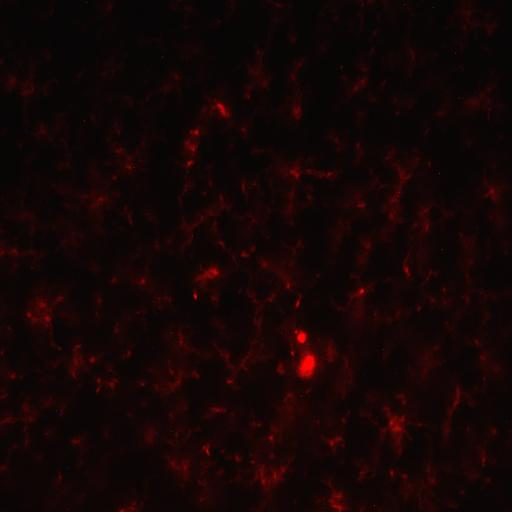microglia: (240, 337, 264, 376), (296, 349, 324, 382), (243, 286, 263, 332), (215, 342, 236, 376), (480, 177, 503, 208), (213, 97, 233, 122), (449, 386, 463, 419), (296, 328, 312, 346), (202, 267, 222, 279), (290, 102, 302, 122), (395, 392, 409, 407), (387, 207, 401, 222), (109, 322, 124, 336), (69, 434, 83, 448), (417, 204, 432, 217), (289, 166, 301, 182), (144, 428, 156, 444), (135, 306, 148, 319), (266, 290, 278, 304), (206, 207, 218, 221), (420, 219, 431, 234), (362, 237, 373, 252), (200, 442, 210, 456), (249, 420, 263, 430), (284, 389, 294, 402), (191, 368, 200, 382), (192, 290, 202, 302), (184, 157, 196, 167), (38, 298, 48, 310), (168, 459, 178, 471), (461, 293, 471, 305), (54, 293, 64, 305), (305, 164, 313, 178), (24, 309, 34, 320), (73, 342, 84, 352), (325, 170, 336, 180), (166, 410, 177, 420), (392, 424, 404, 433), (239, 181, 247, 194), (260, 78, 270, 88), (110, 172, 120, 182), (163, 293, 173, 303), (44, 314, 53, 325), (234, 452, 242, 464), (272, 470, 280, 482), (425, 270, 440, 276), (359, 77, 369, 86), (192, 127, 200, 138), (268, 434, 276, 445), (354, 139, 362, 150), (182, 460, 188, 474), (277, 363, 284, 375), (179, 334, 185, 348), (353, 80, 359, 94), (290, 75, 299, 84), (304, 387, 313, 396), (74, 357, 82, 367), (241, 125, 249, 135), (96, 296, 104, 306), (113, 146, 124, 153), (400, 415, 408, 424), (293, 302, 305, 308), (98, 194, 104, 206), (126, 346, 132, 358), (359, 469, 367, 478), (429, 296, 437, 305), (306, 191, 312, 203), (358, 287, 365, 297), (328, 438, 335, 448), (262, 259, 268, 270), (226, 378, 234, 386), (240, 252, 248, 260), (416, 306, 424, 314), (388, 417, 395, 426), (403, 266, 410, 275), (189, 145, 198, 152), (332, 502, 338, 512), (389, 466, 394, 478), (441, 284, 447, 294), (128, 212, 132, 227), (174, 430, 180, 440), (215, 406, 223, 413), (358, 203, 366, 210), (218, 193, 226, 200), (395, 310, 402, 318), (481, 455, 486, 466), (117, 507, 128, 512), (287, 281, 293, 290), (140, 277, 146, 286), (259, 468, 265, 477), (423, 276, 432, 282), (334, 494, 344, 499), (341, 416, 346, 426), (260, 478, 268, 484), (338, 504, 344, 512), (168, 368, 174, 376), (402, 472, 408, 480), (246, 92, 252, 100), (339, 63, 345, 71), (110, 276, 116, 284), (298, 61, 304, 68), (126, 411, 132, 418), (127, 163, 132, 171), (431, 478, 436, 486), (57, 472, 62, 480), (282, 465, 286, 474), (72, 372, 78, 378), (414, 222, 418, 231), (256, 50, 261, 57), (290, 349, 294, 357), (110, 381, 114, 389), (218, 241, 224, 246), (95, 387, 100, 392), (141, 382, 146, 387), (294, 328, 298, 334), (177, 378, 181, 384), (96, 378, 100, 384), (90, 358, 95, 362), (251, 460, 254, 466)
